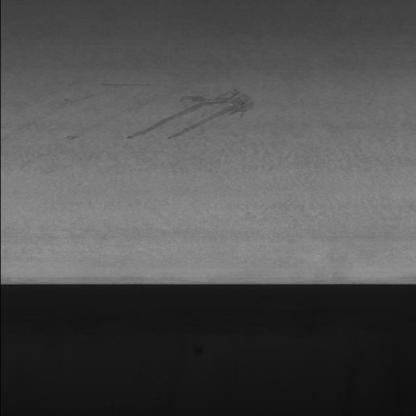water_spot: (105, 78, 262, 146)
